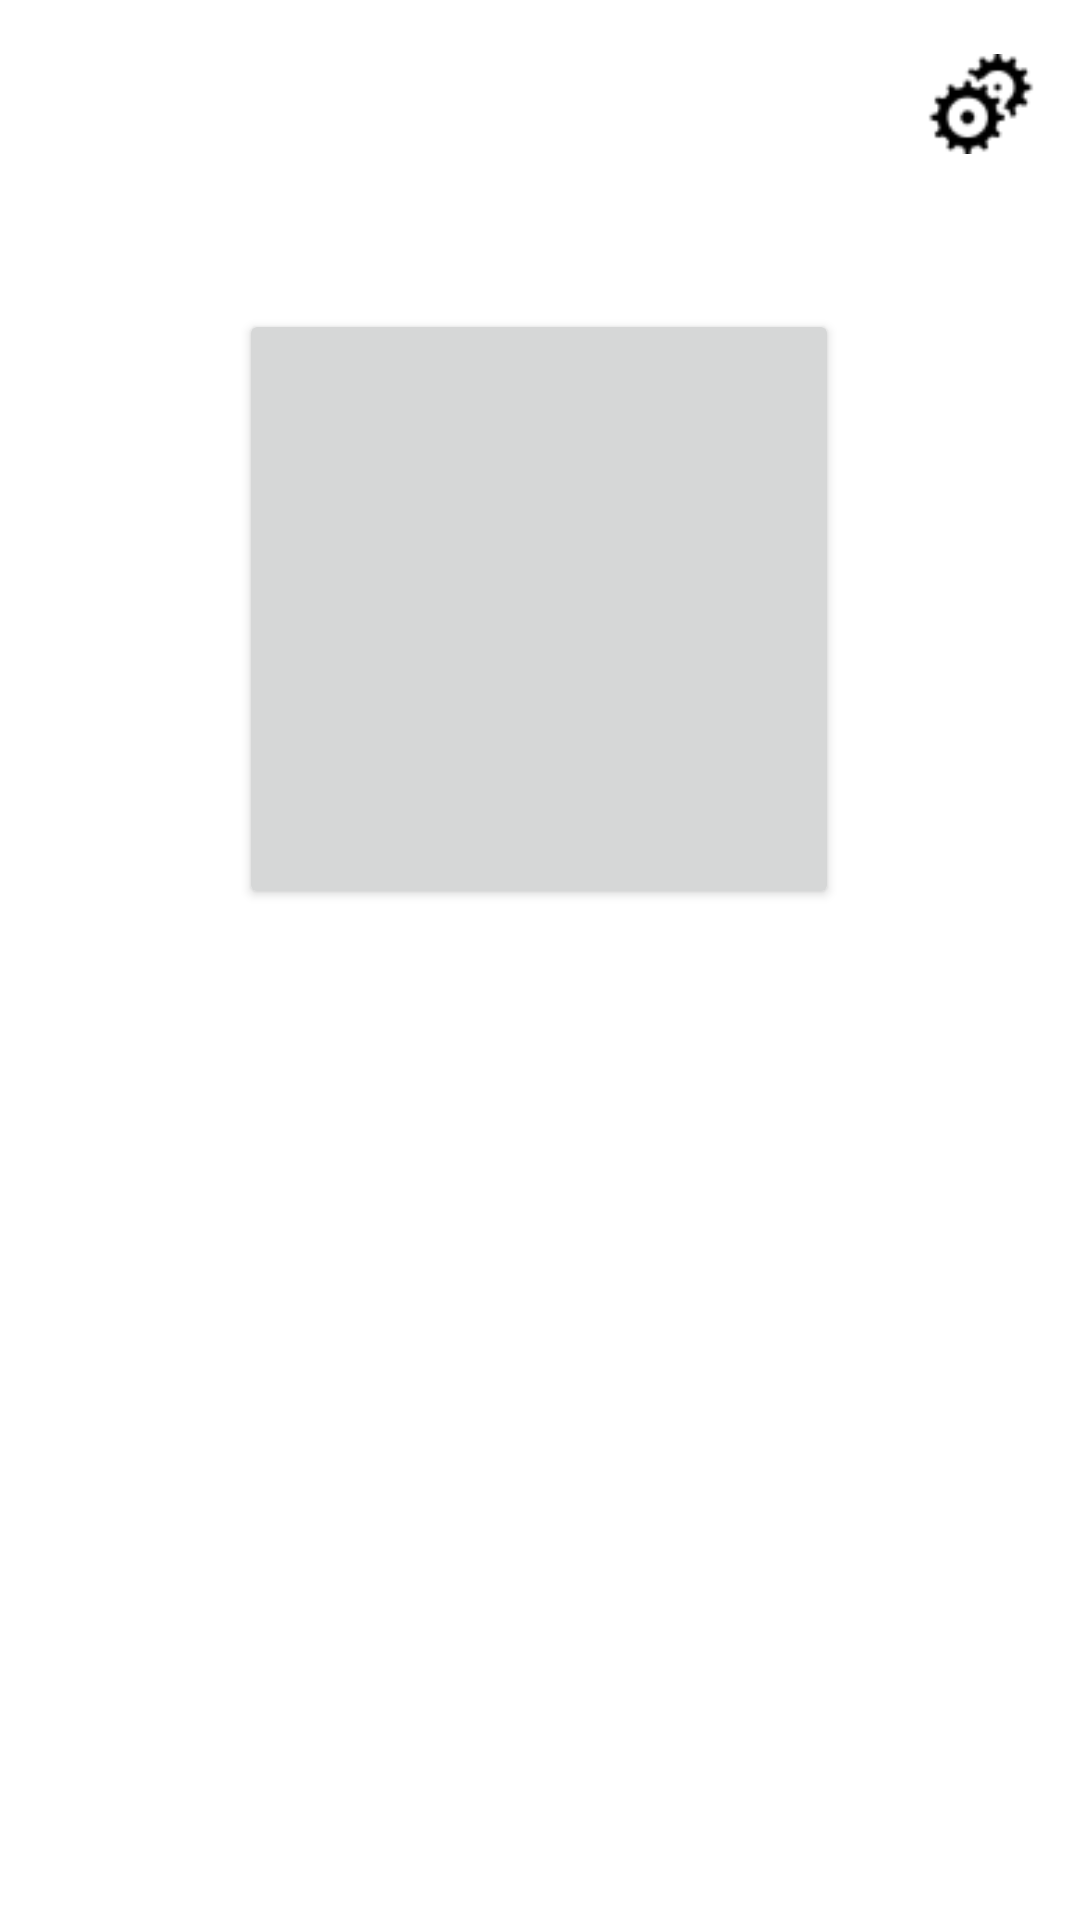

Screen size 1080*1920. Icon name, then its box in pixels as [x1=x1, y1=y1, x2=x2, y2=y2]:
services: [x1=929, y1=54, x2=1033, y2=154]
